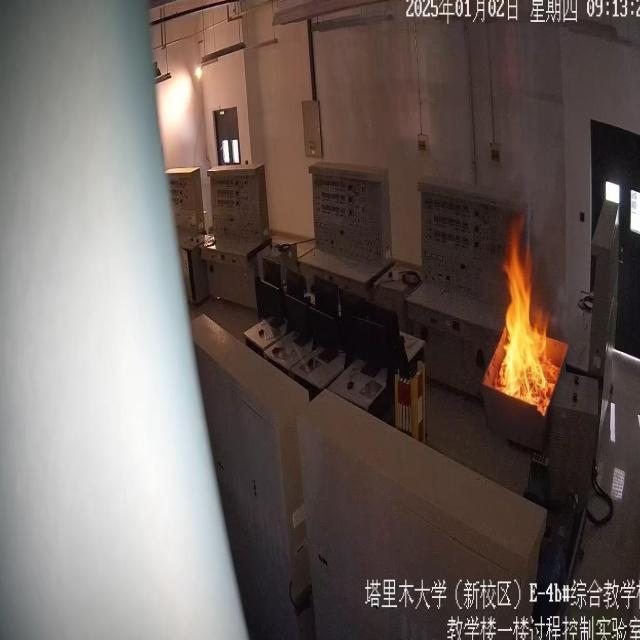smoke: (494, 226, 556, 408)
